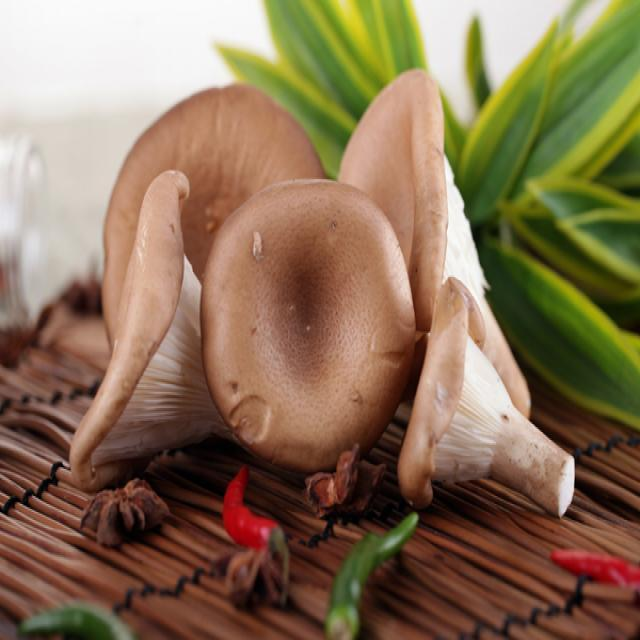Clitocybe maxima: (82, 70, 577, 524)
